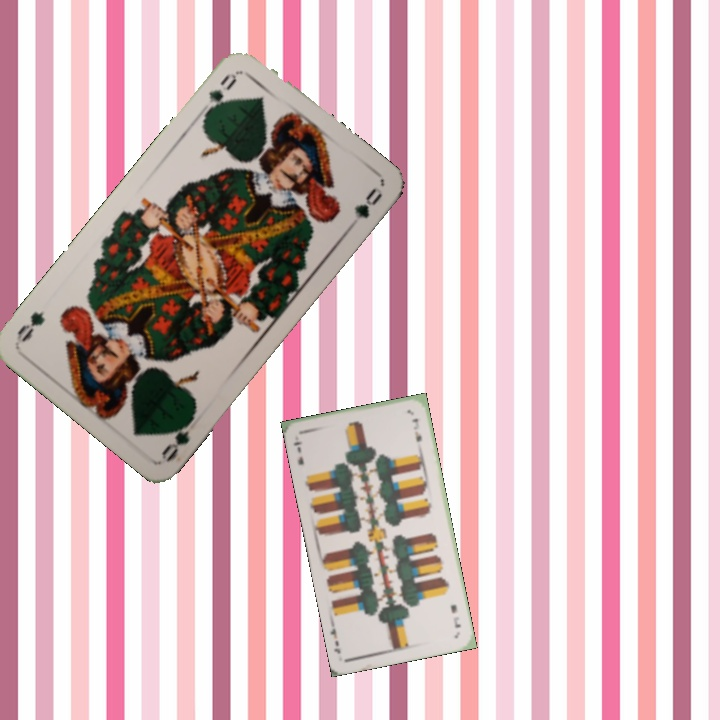E7: (289, 437, 306, 467), (447, 601, 463, 630)
GO: (157, 409, 198, 463), (200, 69, 240, 120)
